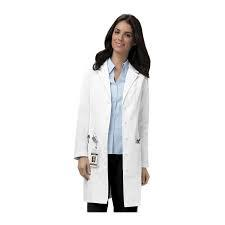lab_coat: (86, 78, 148, 203)
